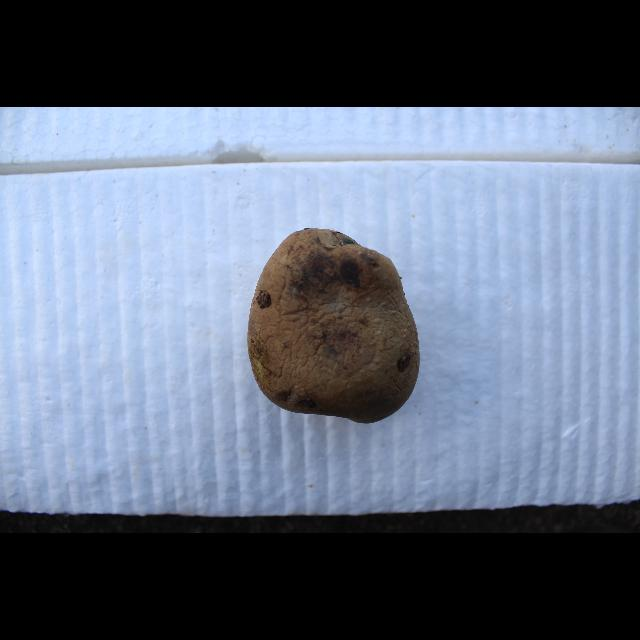Diseased-fungal potato: (245, 222, 423, 430)
